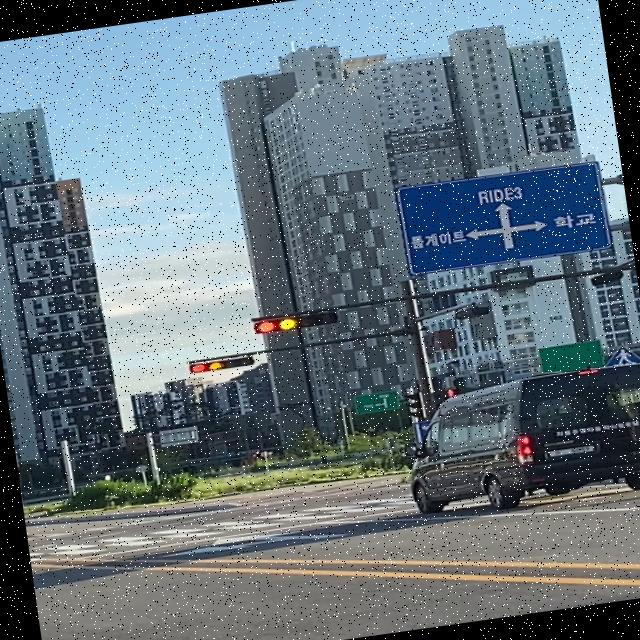yellow_light: (244, 309, 341, 336), (184, 356, 256, 375)
